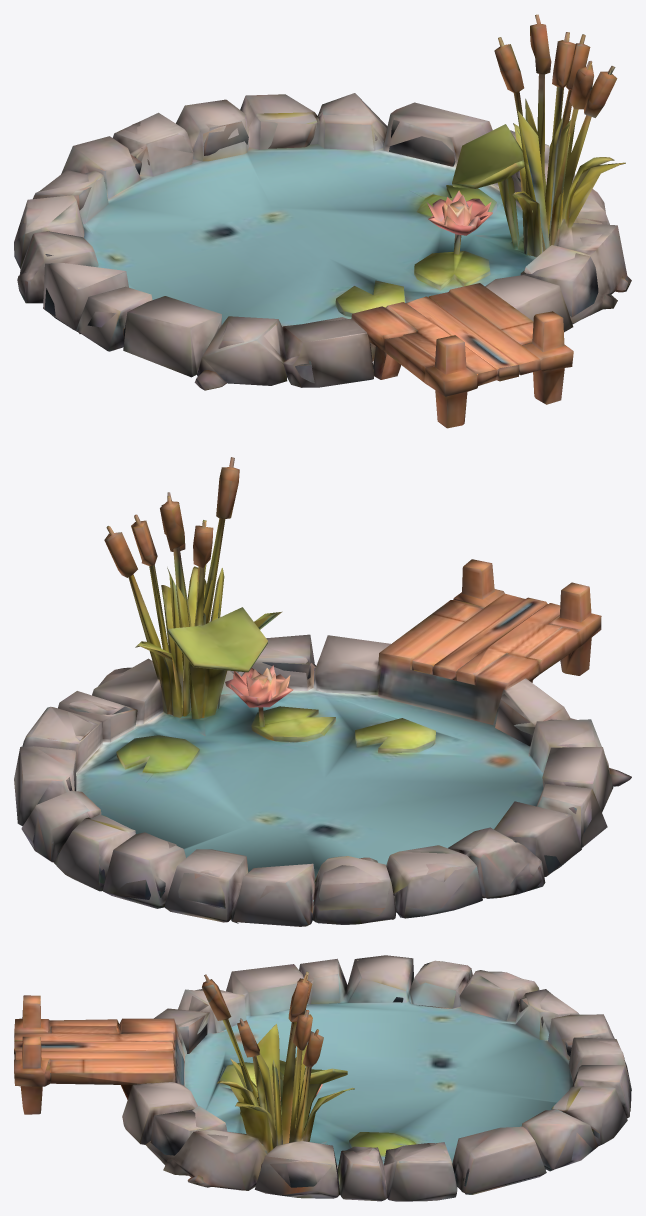
The model's file is chitang-2.glb.
The picture shows the model from 3 angles, top to bottom: view 1: azimuth 30°, elevation 25°; view 2: azimuth 150°, elevation 25°; view 3: azimuth 270°, elevation 25°; orthographic projection. The views are drawn at different scales.
Parts seen in each view (by area): view 1: node_0; view 2: node_0; view 3: node_0.
Boxes of the visible parts, left/top/right/bottom form: node_0: left=14, top=14, right=631, bottom=428; node_0: left=14, top=457, right=631, bottom=926; node_0: left=14, top=955, right=631, bottom=1201.
Bounding box in the file's own units: 0.931 × 0.3986 × 1.12.
Materials: 1 (1 with a texture image).
